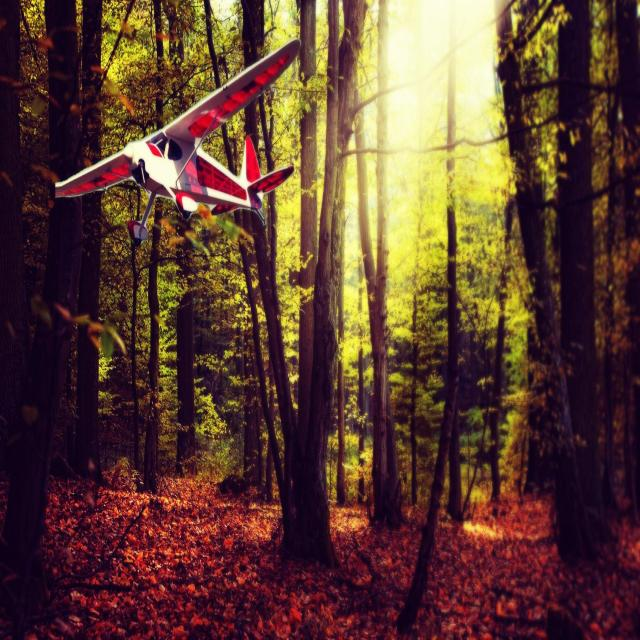airplane: (54, 37, 301, 248)
